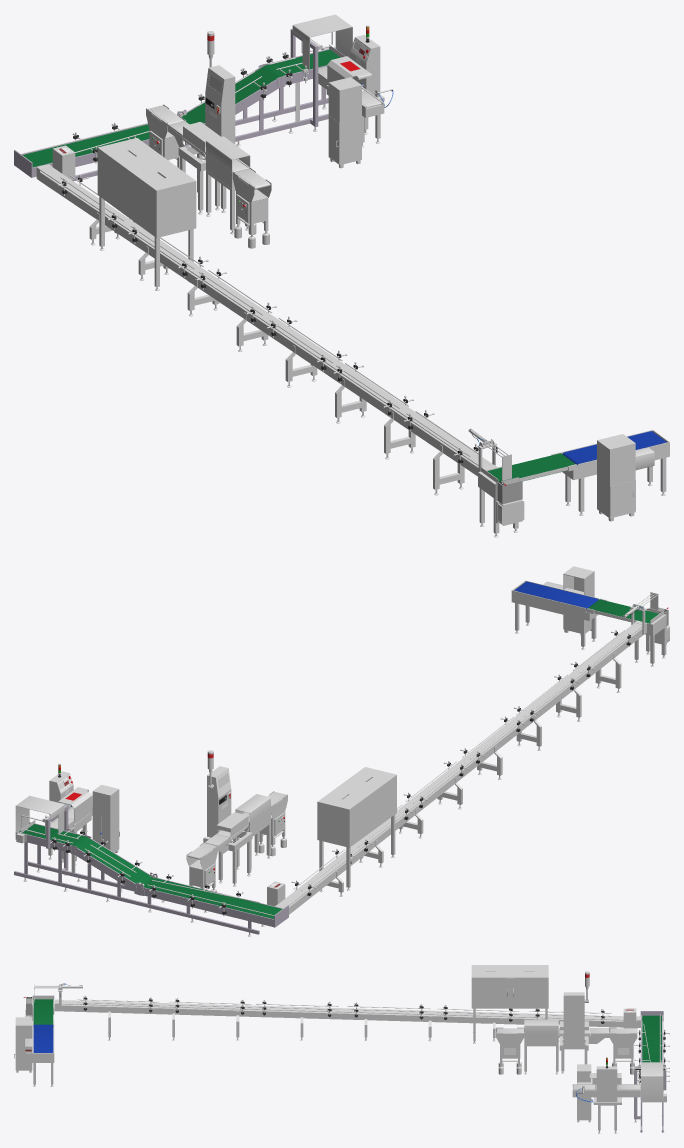
File: MespackSecondaryRoomConveyor.fbx
3 views of the same model, one above another, from view 1: azimuth 30°, elevation 25°; view 2: azimuth 150°, elevation 25°; view 3: azimuth 270°, elevation 25° (orthographic). The views are drawn at different scales.
Visible parts, largest first — view 1: Plane.003, Cube.005, Cube.010, Cube.007, Cube.003, Cube.015, Cube.011, Cube.014, Cube.009, Cube.006; view 2: Cube.010, Plane.003, Cube.005, Cube.007, Cube.003, Cube.015, Cube.014, Cube.011, Cube.009; view 3: Plane.003, Cube.005, Cube.010, Cube.003, Cube.015, Cube.007, Cube.017, Cube.032, Cube.014, Cube.009, Cube.011.
Boxes of the visible parts, x1=… form: Plane.003: x1=36, y1=145, x2=497, y2=495; Cube.005: x1=146, y1=31, x2=271, y2=248; Cube.010: x1=14, y1=14, x2=352, y2=181; Cube.007: x1=97, y1=138, x2=196, y2=290; Cube.003: x1=561, y1=430, x2=669, y2=521; Cube.015: x1=318, y1=25, x2=393, y2=147; Cube.011: x1=468, y1=429, x2=524, y2=537; Cube.014: x1=328, y1=77, x2=361, y2=168; Cube.009: x1=487, y1=452, x2=578, y2=481; Cube.006: x1=610, y1=480, x2=634, y2=517; Cube.010: x1=14, y1=795, x2=288, y2=936; Plane.003: x1=267, y1=621, x2=646, y2=914; Cube.005: x1=186, y1=750, x2=287, y2=892; Cube.007: x1=317, y1=767, x2=396, y2=890; Cube.003: x1=511, y1=566, x2=599, y2=649; Cube.015: x1=45, y1=763, x2=92, y2=865; Cube.014: x1=92, y1=784, x2=119, y2=852; Cube.011: x1=623, y1=604, x2=669, y2=666; Cube.009: x1=585, y1=598, x2=658, y2=623; Plane.003: x1=54, y1=997, x2=640, y2=1041; Cube.005: x1=496, y1=971, x2=637, y2=1074; Cube.010: x1=634, y1=1011, x2=666, y2=1132; Cube.003: x1=15, y1=1017, x2=54, y2=1086; Cube.015: x1=572, y1=1057, x2=640, y2=1133; Cube.007: x1=471, y1=965, x2=548, y2=1043; Cube.017: x1=473, y1=979, x2=510, y2=1007; Cube.032: x1=510, y1=979, x2=547, y2=1007; Cube.014: x1=577, y1=1064, x2=592, y2=1122; Cube.009: x1=32, y1=999, x2=54, y2=1025; Cube.011: x1=25, y1=984, x2=82, y2=1020.
Size of the model in its own units: 493 by 232 by 1307.
